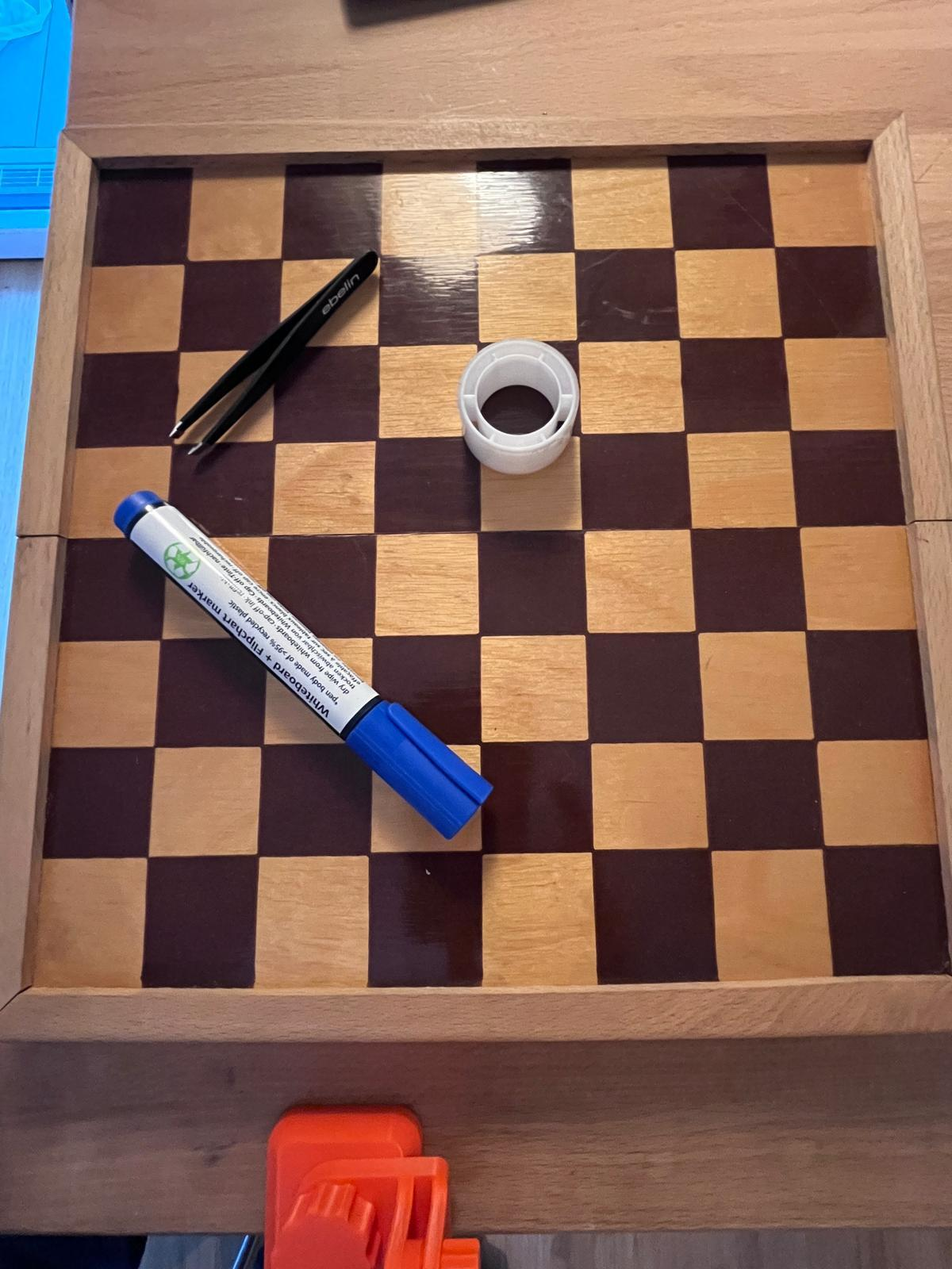marker: (113, 479, 490, 828)
tape: (460, 338, 582, 476)
tweezer: (163, 241, 384, 455)
